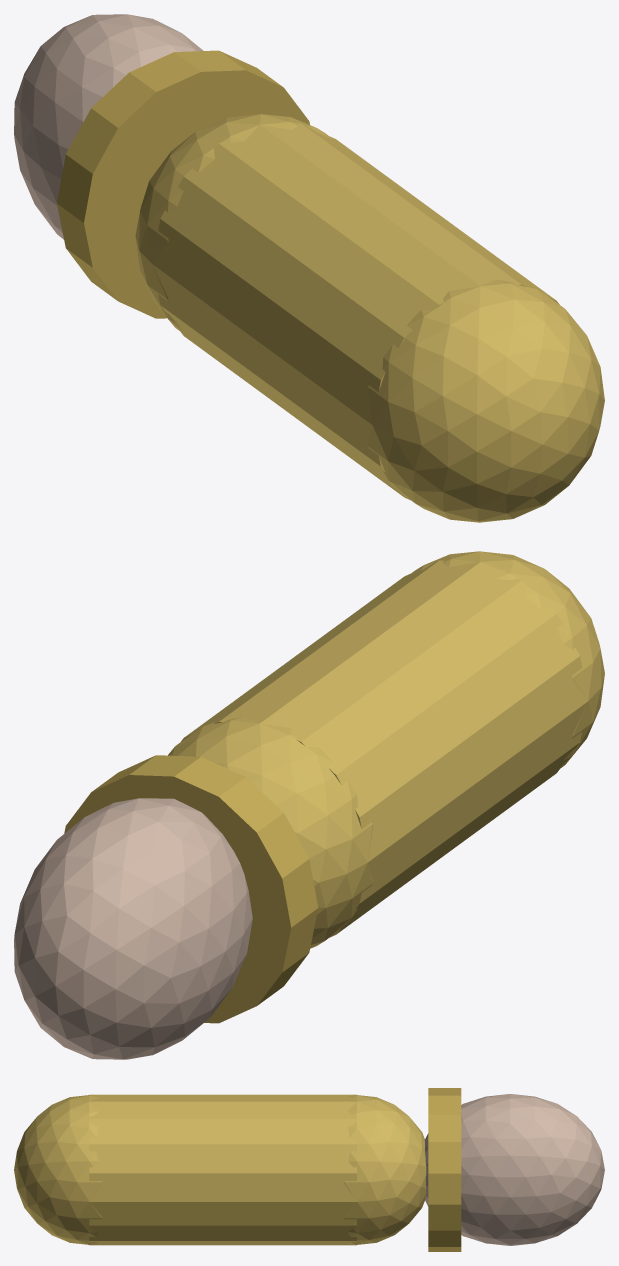
Rendered from teibi_right_lower_arm.glb.
3 views of the same model, one above another, from view 1: azimuth 30°, elevation 25°; view 2: azimuth 150°, elevation 25°; view 3: azimuth 270°, elevation 25° (orthographic). The views are drawn at different scales.
Visible parts, largest first — view 1: geometry_0; view 2: geometry_0; view 3: geometry_0.
Part boxes in pixels (bbox=[...]): geometry_0: bbox=[14, 14, 604, 522]; geometry_0: bbox=[14, 551, 604, 1059]; geometry_0: bbox=[14, 1088, 604, 1251].
Size of the model in its own units: 0.1 by 0.1 by 0.3601.
